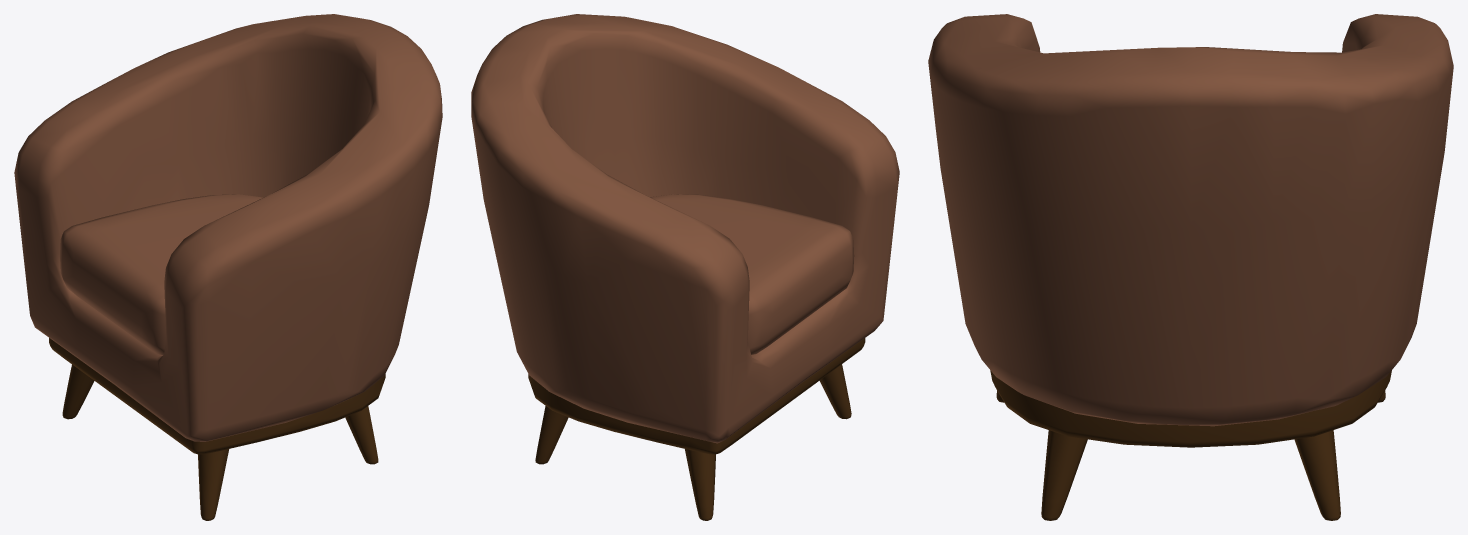
Rendered from armchair_06_brown.fbx.
The picture shows the model from 3 angles, left to right: view 1: azimuth 30°, elevation 25°; view 2: azimuth 150°, elevation 25°; view 3: azimuth 270°, elevation 25°; orthographic projection. The views are drawn at different scales.
Visible parts, largest first — view 1: armchair_06_brown; view 2: armchair_06_brown; view 3: armchair_06_brown.
Boxes of the visible parts, <box> form: armchair_06_brown: <box>14,14,442,520</box>; armchair_06_brown: <box>471,14,899,520</box>; armchair_06_brown: <box>928,14,1453,520</box>.
Size of the model in its own units: 105 by 120 by 114.
2 materials, 2 textured.
